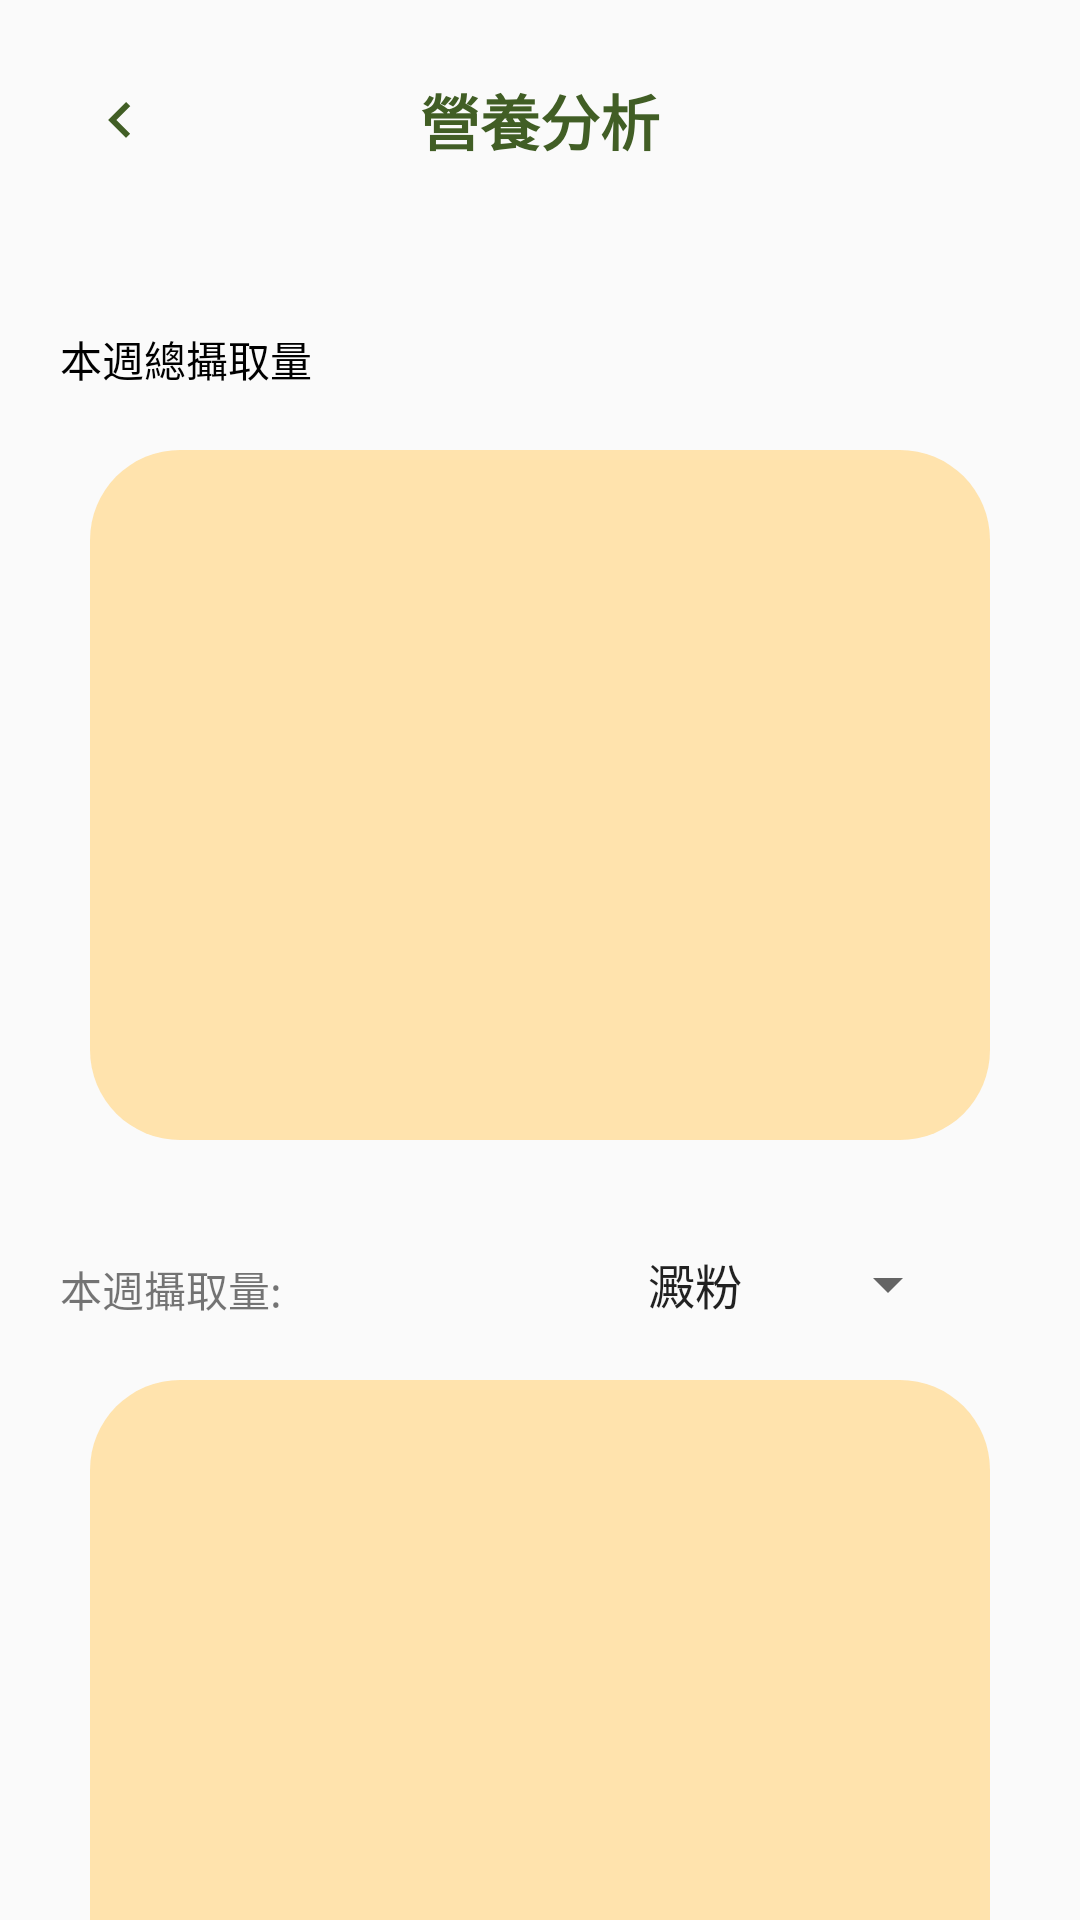

Screen size 1080px×1920px. Icon name, then its center in pixels as point (x, y):
keyboard arrow left: point (119, 120)
